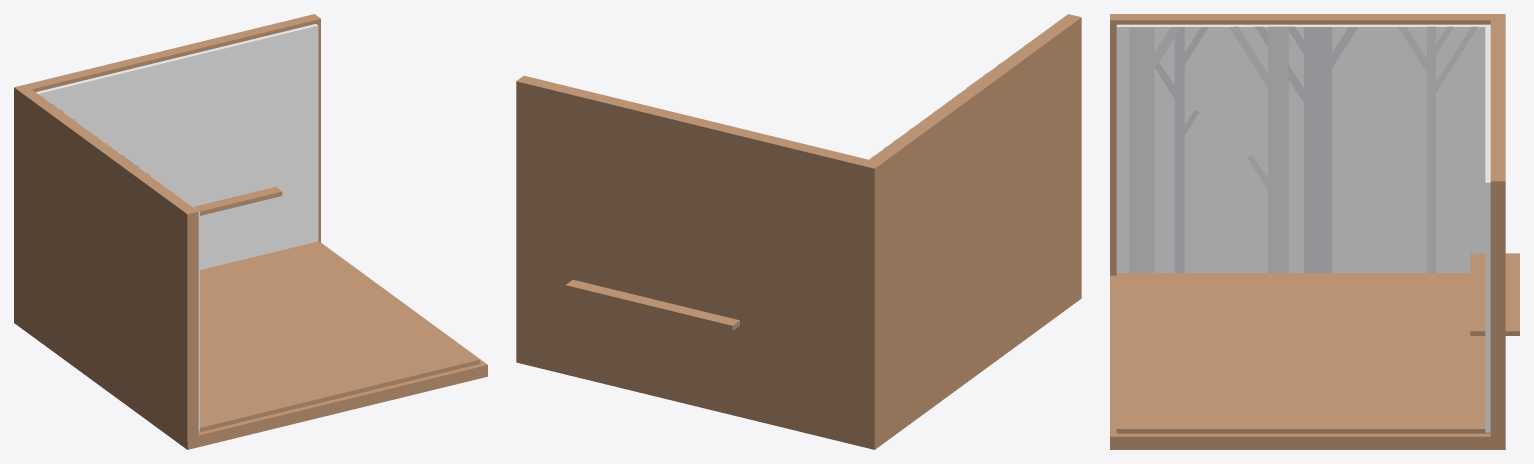
File: Furn3_wall_floor_color2.fbx
3 views of the same model, side by side, from view 1: azimuth 30°, elevation 25°; view 2: azimuth 150°, elevation 25°; view 3: azimuth 270°, elevation 25° (orthographic). The views are drawn at different scales.
Parts seen in each view (by area): view 1: Куб.342, Куб.341, Куб.344; view 2: Куб.342, Куб.341, Куб.344; view 3: Куб.342, Куб.341, Цилиндр.001, Куб.344.
Boxes of the visible parts, box(x1,y1,x2,y2) form: Куб.342: box(14, 14, 320, 440); Куб.341: box(14, 241, 487, 449); Куб.344: box(193, 187, 282, 215); Куб.342: box(516, 14, 1081, 438); Куб.341: box(516, 288, 1081, 449); Куб.344: box(565, 279, 739, 330); Куб.342: box(1110, 14, 1505, 439); Куб.341: box(1110, 273, 1505, 449); Цилиндр.001: box(1129, 26, 1477, 272); Куб.344: box(1470, 253, 1519, 335).
Size of the model in its own units: 911 by 682 by 943.
